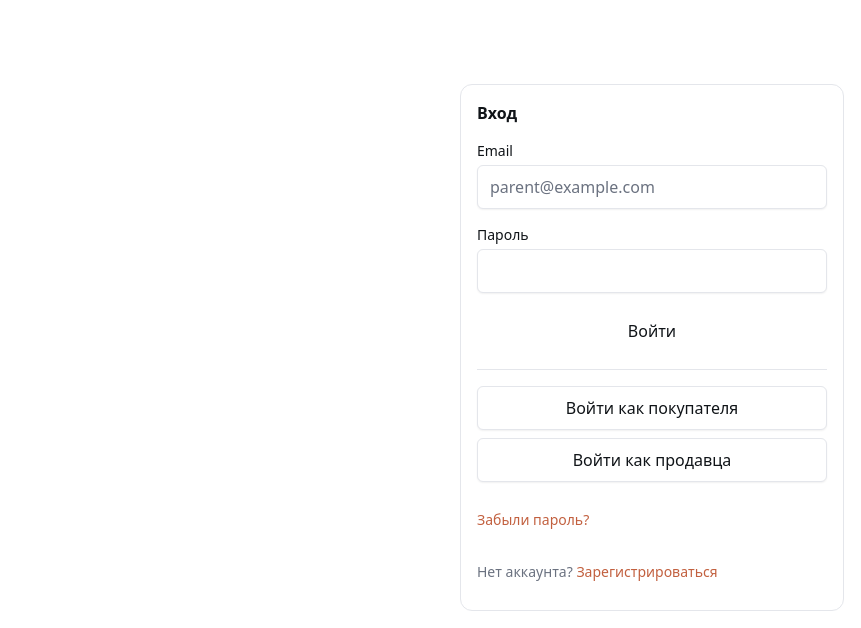
Scenario: LoginPage dev-вход (временный) › клик по продавцу ведёт в кабинет продавца /cabinet/products
The width and height of the screenshot is (861, 628).
Click the button "Войти как продавца": (652, 460) top-left (477, 438), bottom-right (827, 482)
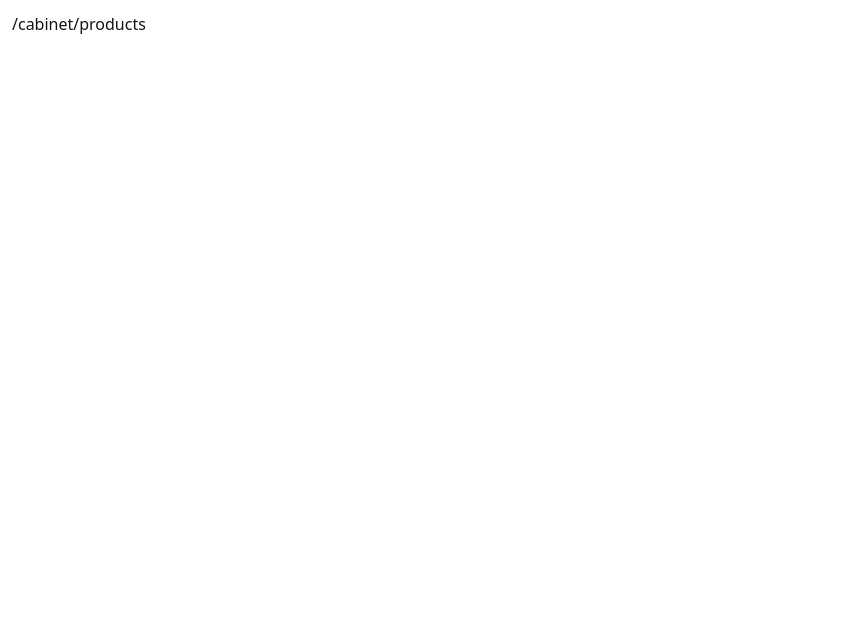
Check: the text with test id "path" reads "/cabinet/products", box top-left (12, 13), bottom-right (146, 35)
